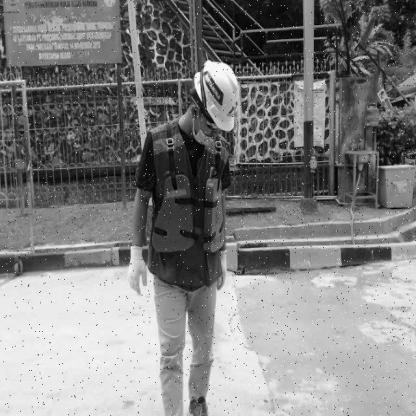boots: (186, 395, 210, 416)
gloves: (128, 246, 148, 296), (217, 250, 229, 292)
goggles: (193, 99, 221, 135)
helmet: (193, 58, 241, 132)
mask: (192, 128, 214, 148)
vest: (151, 174, 225, 255)
